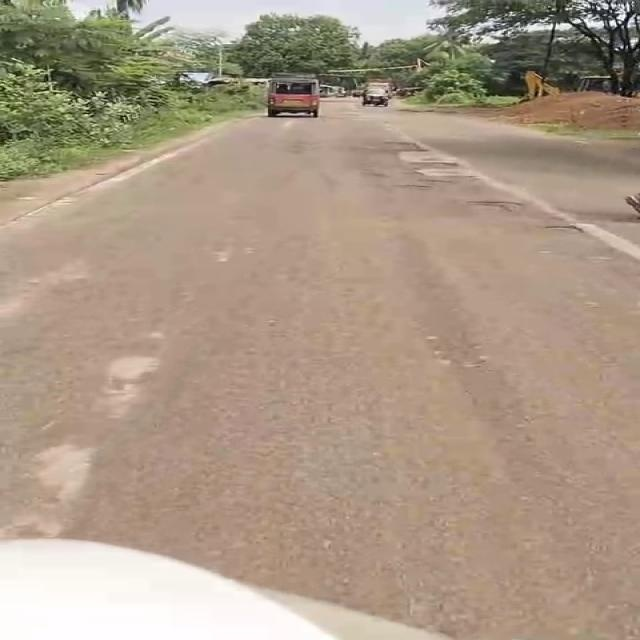pothole: (458, 196, 536, 216), (360, 138, 435, 154), (535, 222, 587, 240), (348, 169, 398, 184), (404, 160, 456, 172), (392, 182, 438, 194)
